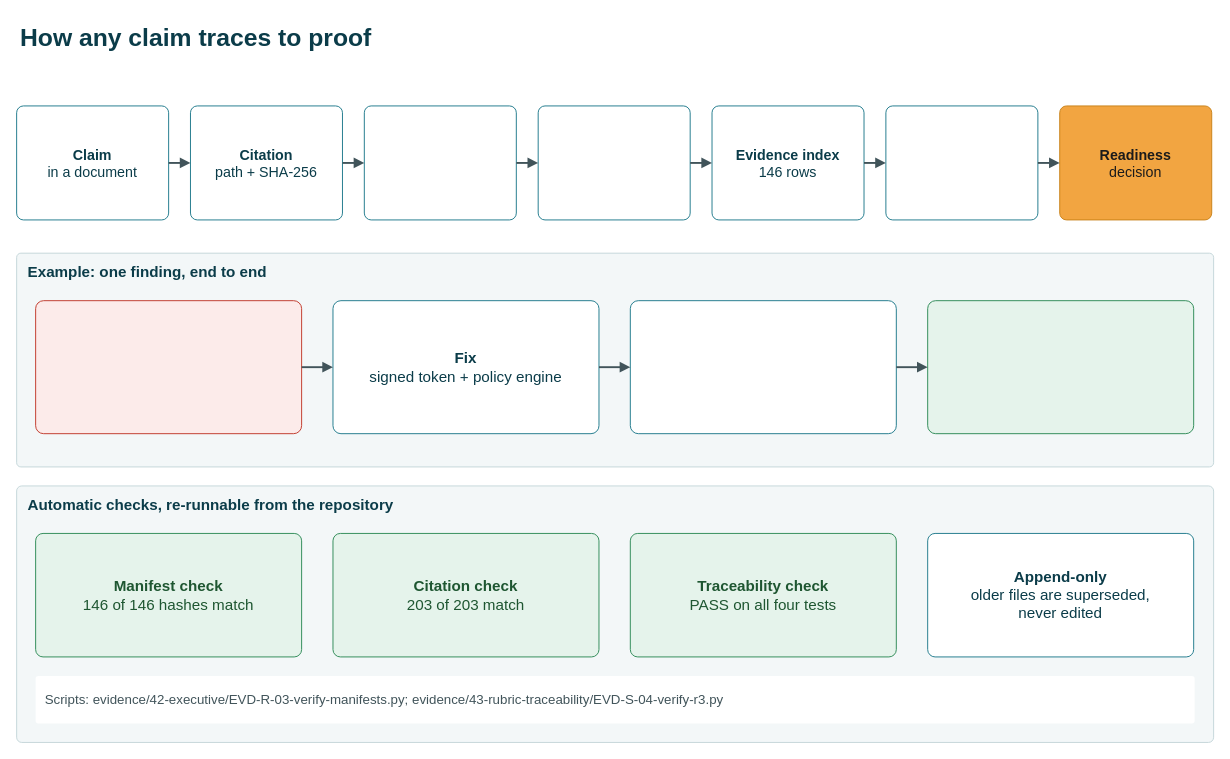
Image size: 1230x759. Some labels were removed from this diagram. The centre of each missing label's shape, as x and y in pixels:
"Evidence file evidence/<stage>/ EVD-…" belongs at pixel 439 162.
"F-17 (severity S1) role header trusted" belongs at pixel 168 367.
"MANIFEST row step, command, time, operator" belongs at pixel 613 162.
"Proof baseline answered 200; now 401" belongs at pixel 1060 367.
"Rubric matrix 36 sub-dimensions" belongs at pixel 961 162.
"Tests unit tests; red team RT-02, RT-11" belongs at pixel 762 367.
